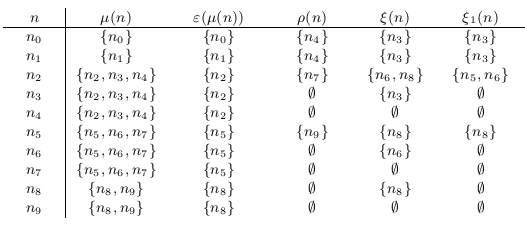column: (65, 1, 167, 236), (431, 1, 523, 237), (167, 1, 256, 237), (257, 1, 345, 237), (345, 1, 430, 236), (1, 1, 65, 237)
row: (1, 1, 523, 27), (1, 64, 525, 87), (1, 202, 523, 225), (1, 161, 523, 183), (1, 26, 522, 47), (1, 105, 525, 125), (1, 47, 520, 67), (1, 87, 525, 106), (1, 125, 525, 144), (1, 144, 524, 163), (1, 183, 523, 202)
